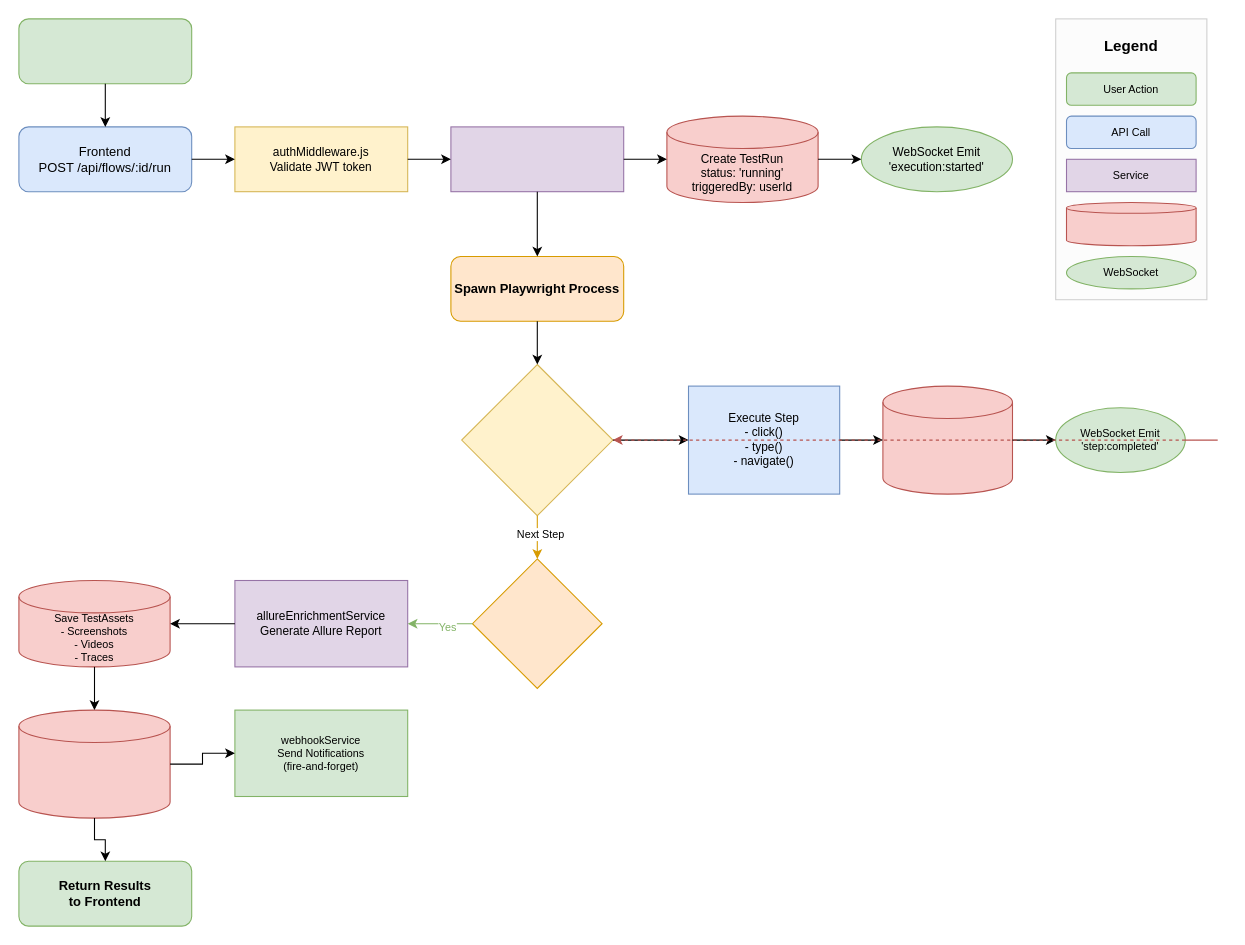
The diagram is 1245 pixels wide and 945 high, and some of its shapes have lost their labels. The shapes that lost their labels are listed below. From the top down, each one's box as (x1, y1, x2, y2) in pixels, then its label:
(18, 18, 192, 84): User clicks 'Run Test'
(450, 126, 624, 192): executionService.js Start execution
(1065, 201, 1196, 246): Database
(461, 363, 613, 516): For Each Test Step
(882, 385, 1013, 494): Insert TestRunStep - status - duration - screenshot
(471, 558, 602, 688): All steps completed?
(18, 709, 170, 818): Update TestRun - status: 'passed/failed' - duration - allureReportUrl
